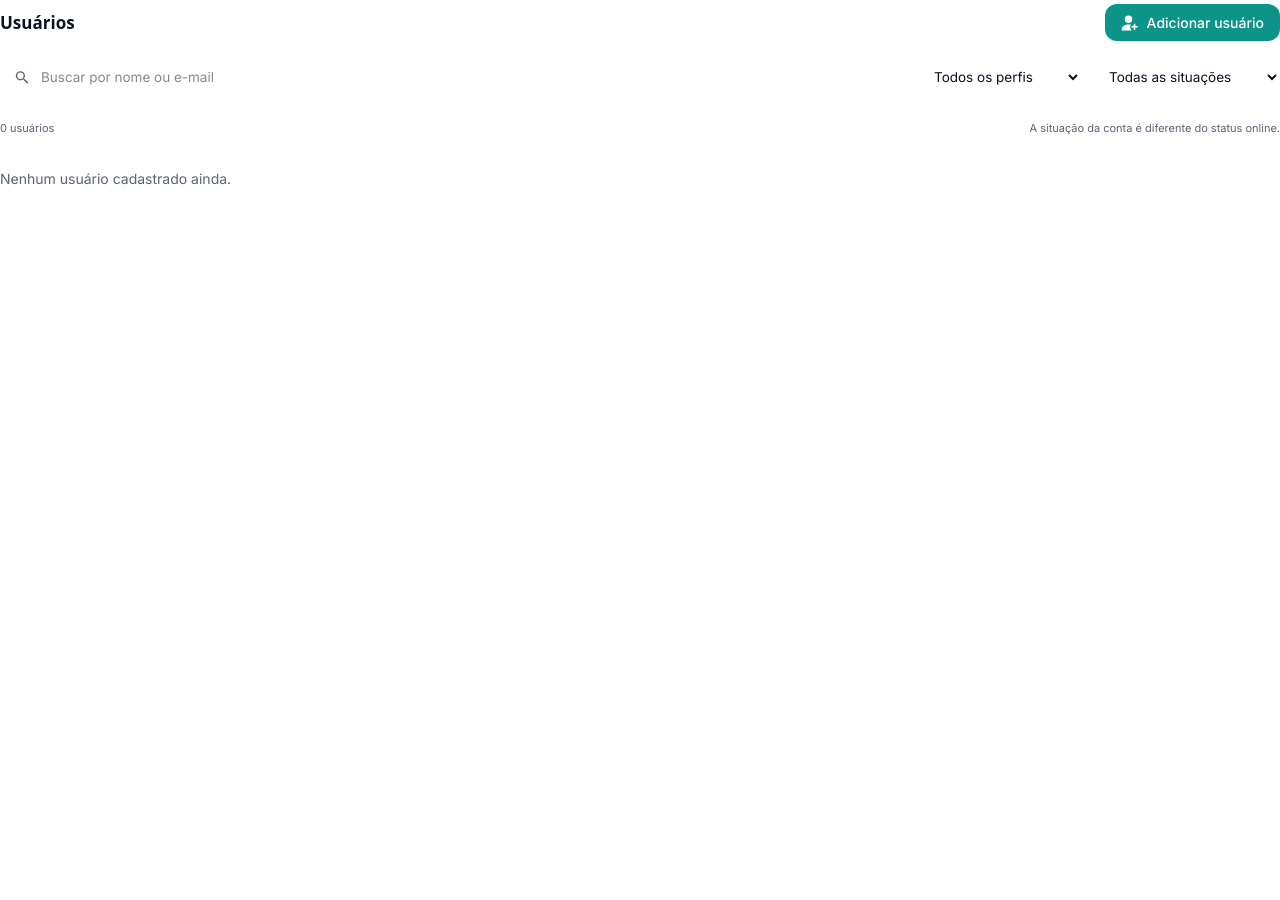
UsersPage › a ação do cabeçalho abre o formulário de criação
The image size is (1280, 900).
Expected: the text "Nenhum usuário cadastrado ainda." is shown, x1=0 y1=170 x2=231 y2=186
Click the button "Adicionar usuário" at (1192, 22), box x1=1105 y1=4 x2=1279 y2=41
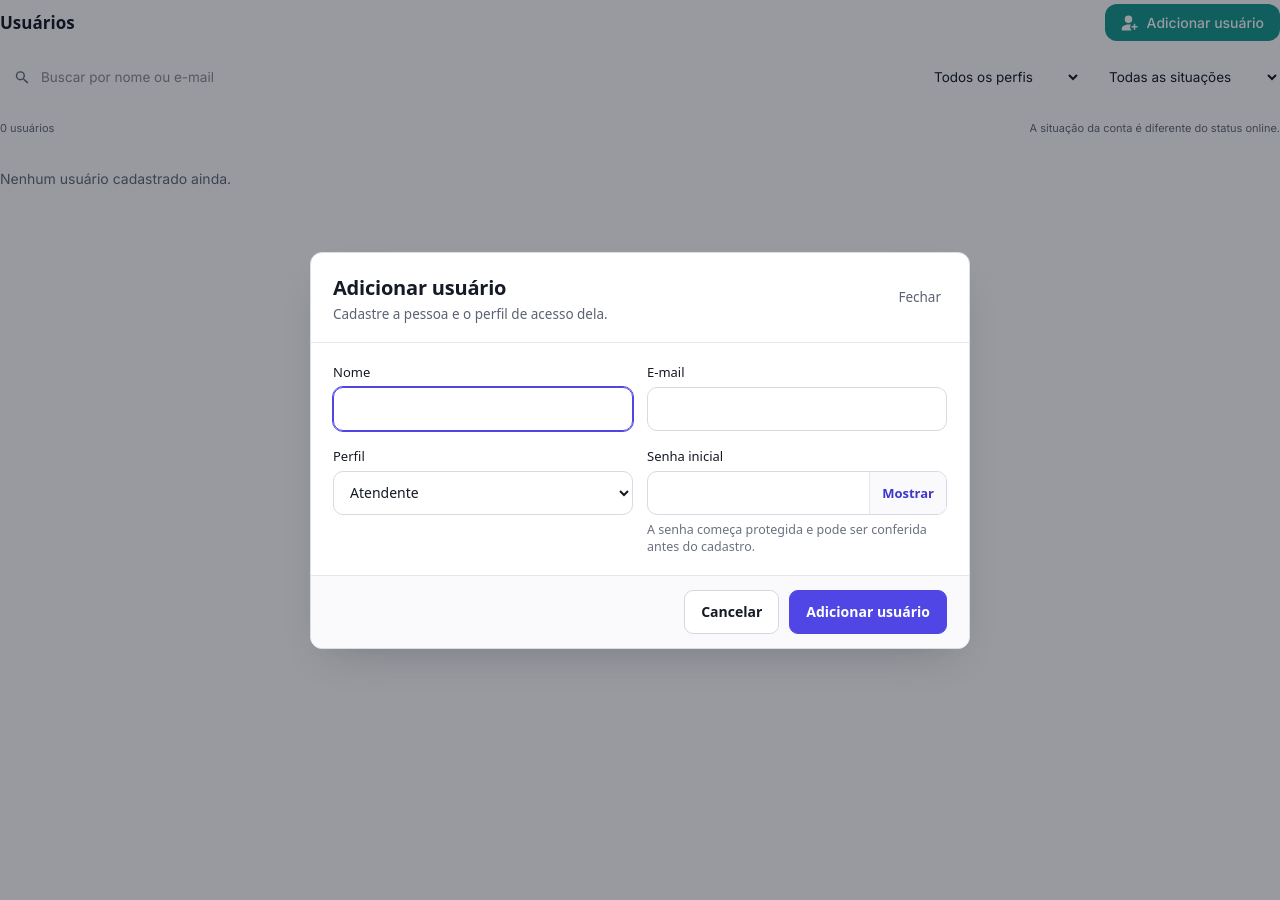
Result: the heading "Adicionar usuário" is shown at x1=333 y1=274 x2=506 y2=300
